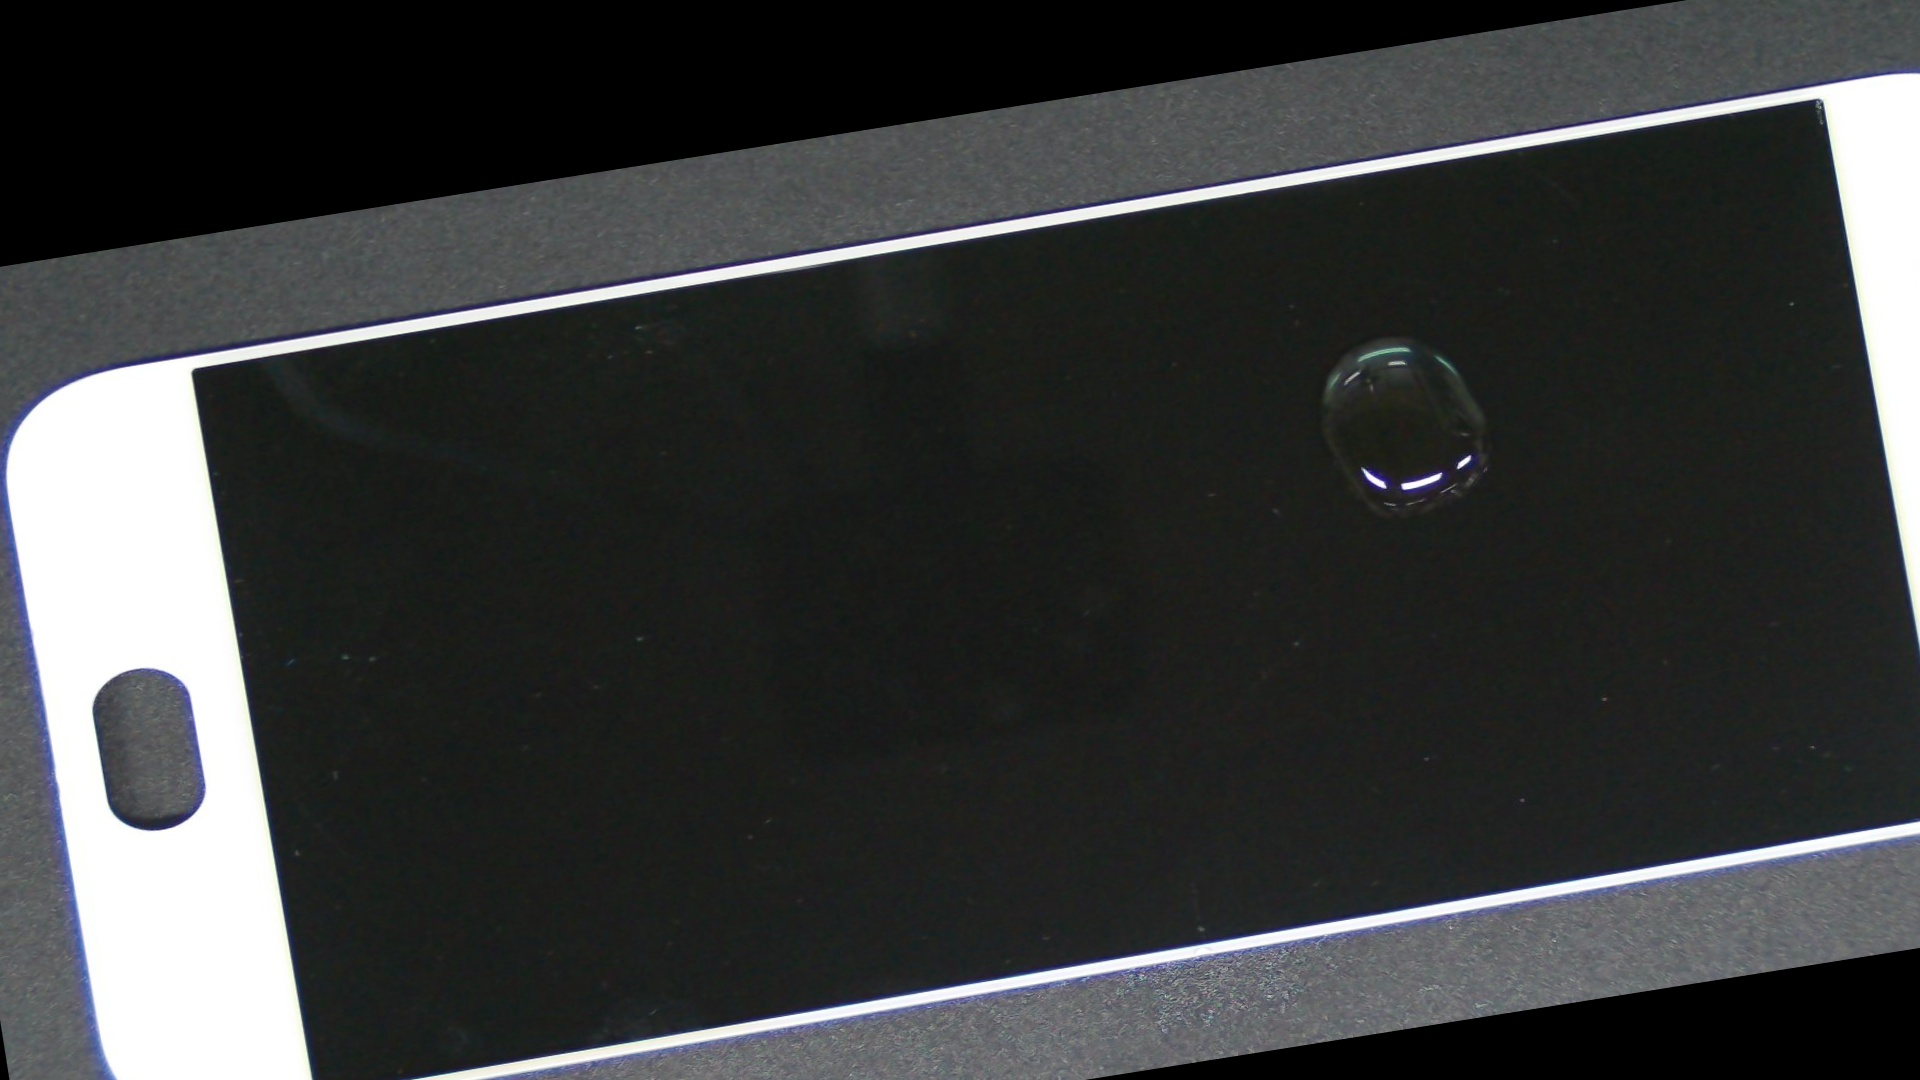oil: (629, 84, 1920, 596)
